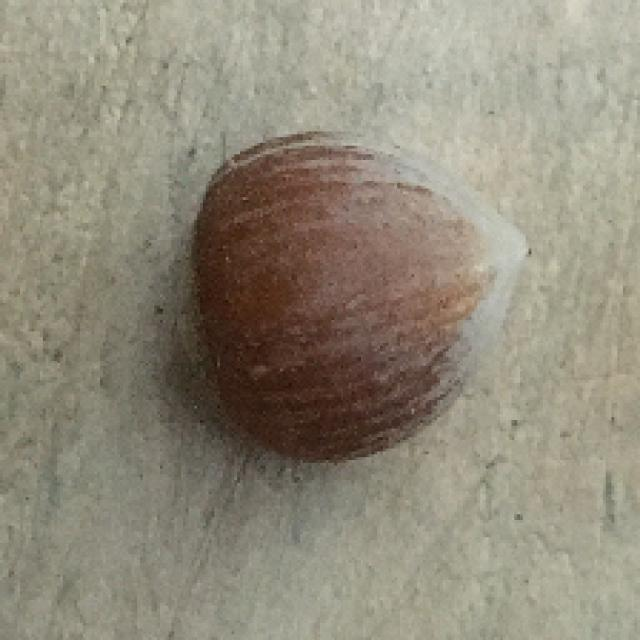QualityHazelnut: (159, 128, 535, 470)
